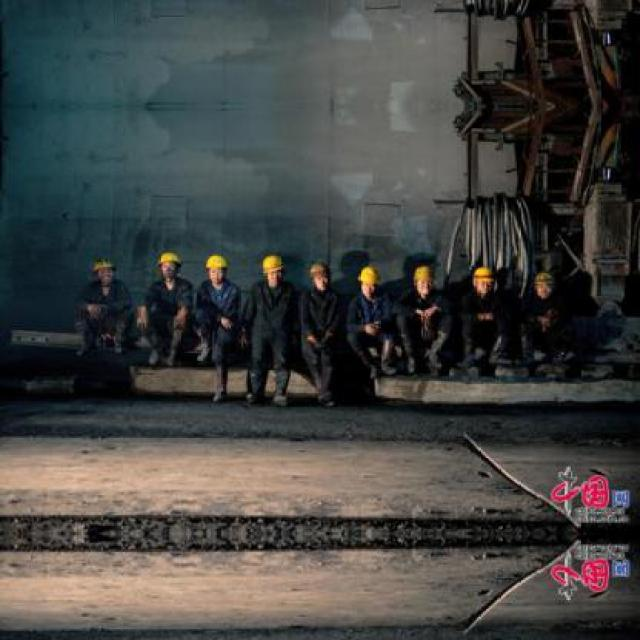helmet: (469, 263, 497, 297), (92, 252, 117, 289), (202, 250, 226, 288), (262, 250, 286, 288), (358, 264, 380, 302), (412, 262, 434, 298), (308, 261, 332, 293), (158, 250, 180, 284), (531, 268, 552, 302)
